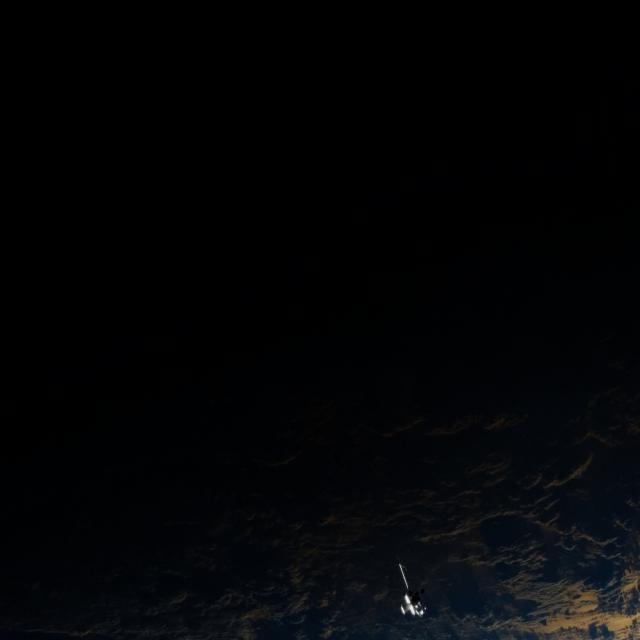satellite: (370, 553, 448, 640)
